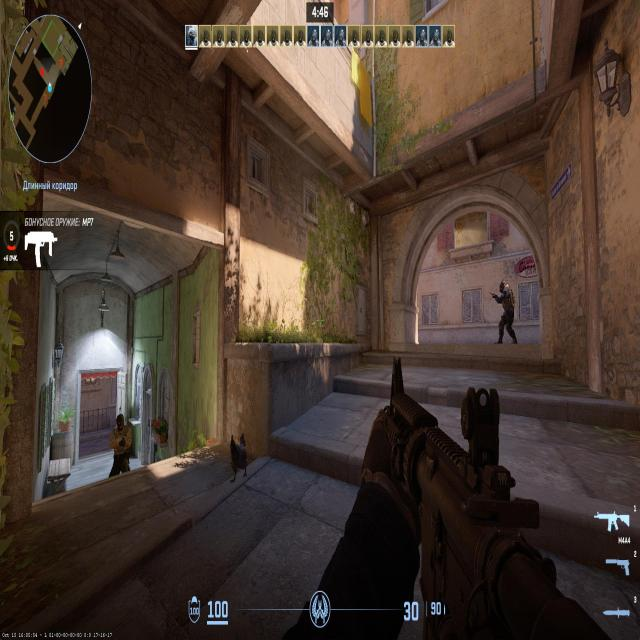CT: (502, 282, 518, 339)
CT_heat: (502, 282, 508, 292)
T: (116, 418, 128, 472)
T_heat: (117, 418, 123, 428)
